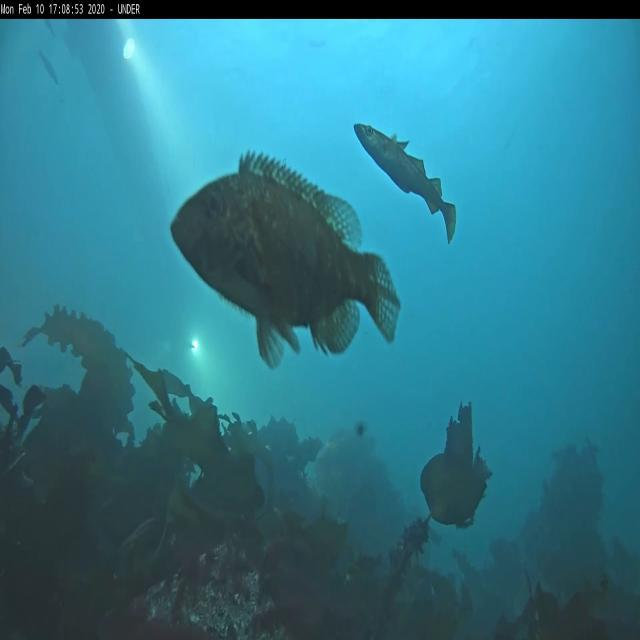fish: (169, 151, 400, 373), (354, 124, 456, 244), (38, 48, 58, 84)
